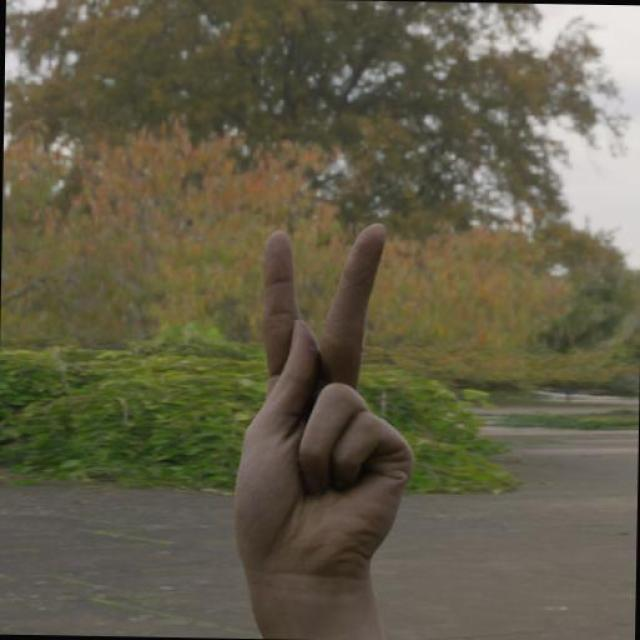K: (229, 217, 421, 596)
